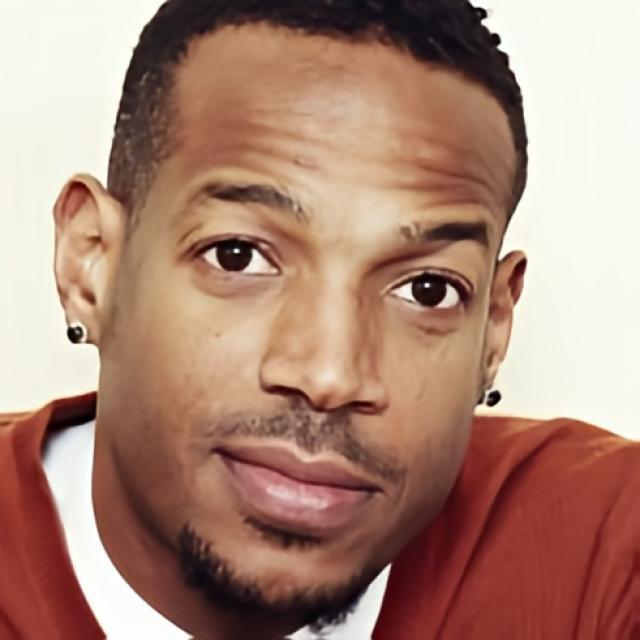content: (98, 0, 528, 618)
